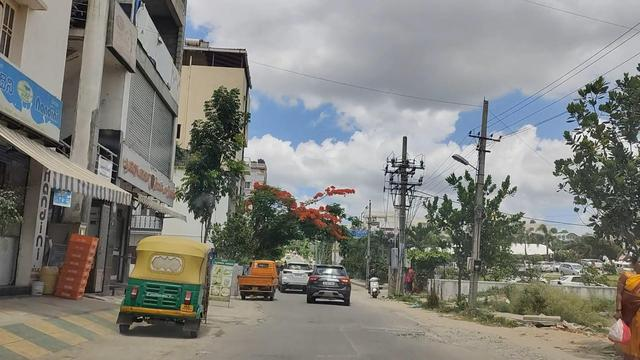RoadDamages: (362, 305, 451, 344), (233, 303, 289, 334), (440, 333, 498, 360)
